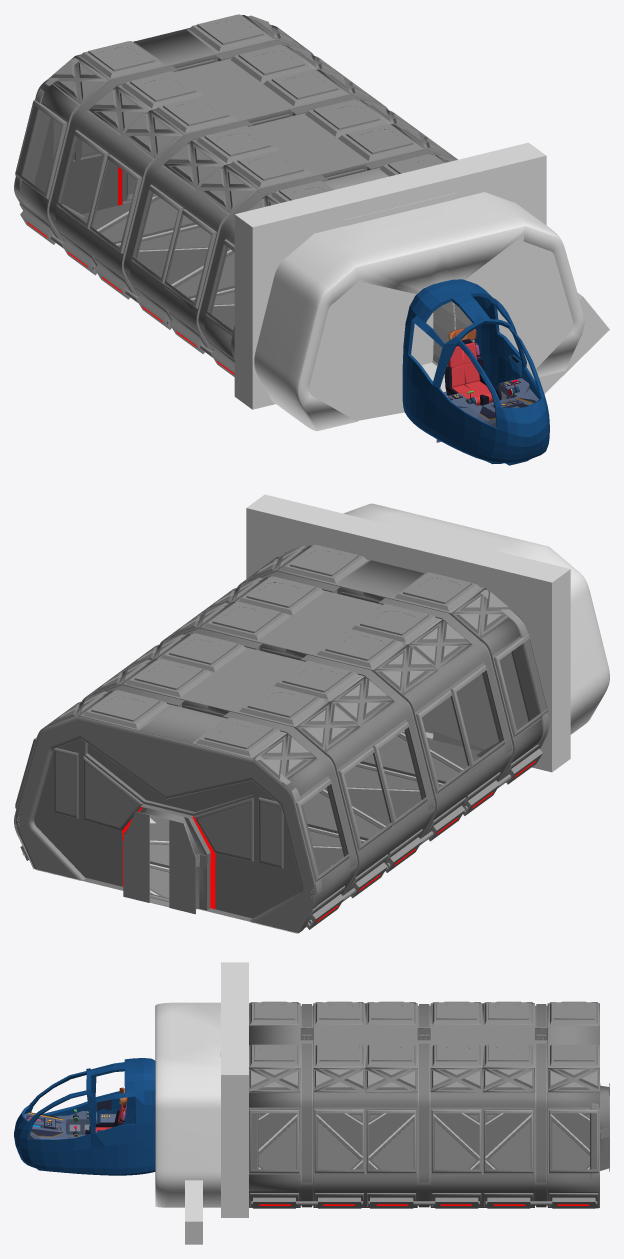
File: ship.fbx
3 renders of one model, top to bottom at view 1: azimuth 30°, elevation 25°; view 2: azimuth 150°, elevation 25°; view 3: azimuth 270°, elevation 25°, orthographic. The views are drawn at different scales.
Visible parts, largest first — view 1: Room, Cube.033, Cube.032, Cube, Pillars, Floor, Door, Cube.001, Pillar, Cube.031, Cube.035, Cube.004; view 2: Room, Door, Cube.032, Pillar, Cube.033, Floor, Pillars, Left_Door, Right_Door, Pillar.001, Red_Lights_2; view 3: Room, Floor, Cube.033, Cube, Cube.032, Pillars, Cube.004, Cube.035, Door, Red_Lights_2, Pillar, Pillar.001.
Boxes of the visible parts, x1=… form: Room: x1=14, y1=14, x2=457, y2=376; Cube.033: x1=254, y1=192, x2=584, y2=431; Cube.032: x1=234, y1=142, x2=546, y2=409; Cube: x1=402, y1=279, x2=549, y2=465; Pillars: x1=50, y1=40, x2=440, y2=350; Floor: x1=80, y1=196, x2=234, y2=330; Door: x1=17, y1=90, x2=157, y2=214; Cube.001: x1=444, y1=339, x2=501, y2=405; Pillar: x1=15, y1=58, x2=84, y2=218; Cube.031: x1=345, y1=193, x2=456, y2=365; Cube.035: x1=534, y1=292, x2=609, y2=393; Cube.004: x1=436, y1=378, x2=538, y2=442; Room: x1=14, y1=544, x2=548, y2=933; Door: x1=34, y1=739, x2=320, y2=918; Cube.032: x1=246, y1=494, x2=570, y2=772; Pillar: x1=15, y1=716, x2=322, y2=933; Cube.033: x1=343, y1=503, x2=609, y2=751; Floor: x1=34, y1=731, x2=481, y2=932; Pillars: x1=16, y1=571, x2=512, y2=898; Left_Door: x1=169, y1=819, x2=196, y2=914; Right_Door: x1=123, y1=811, x2=149, y2=902; Pillar.001: x1=476, y1=589, x2=549, y2=756; Red_Lights_2: x1=22, y1=760, x2=535, y2=925; Room: x1=249, y1=1001, x2=599, y2=1208; Floor: x1=258, y1=1113, x2=589, y2=1169; Cube.033: x1=155, y1=1002, x2=220, y2=1207; Cube: x1=14, y1=1058, x2=155, y2=1175; Cube.032: x1=221, y1=962, x2=248, y2=1217; Pillars: x1=301, y1=1004, x2=546, y2=1207; Cube.004: x1=24, y1=1111, x2=97, y2=1139; Cube.035: x1=185, y1=1180, x2=202, y2=1244; Door: x1=600, y1=1083, x2=609, y2=1170; Red_Lights_2: x1=251, y1=1201, x2=597, y2=1205; Pillar: x1=590, y1=1103, x2=598, y2=1208; Pillar.001: x1=250, y1=1002, x2=258, y2=1169.
Bounding box in the file's own units: 1021 × 737 × 2007.
